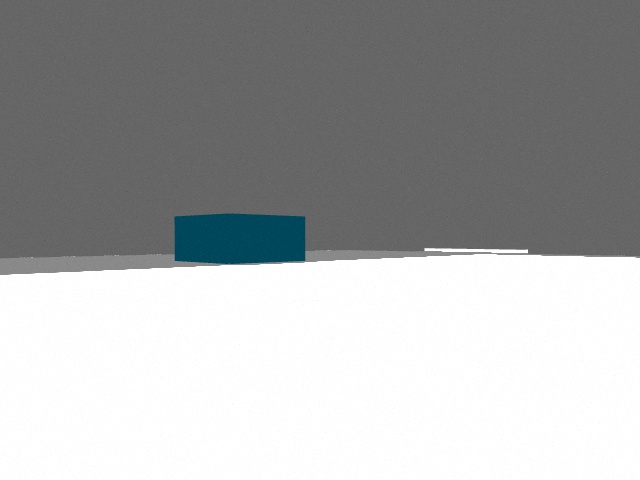blue_drop_zone: (174, 213, 305, 264)
